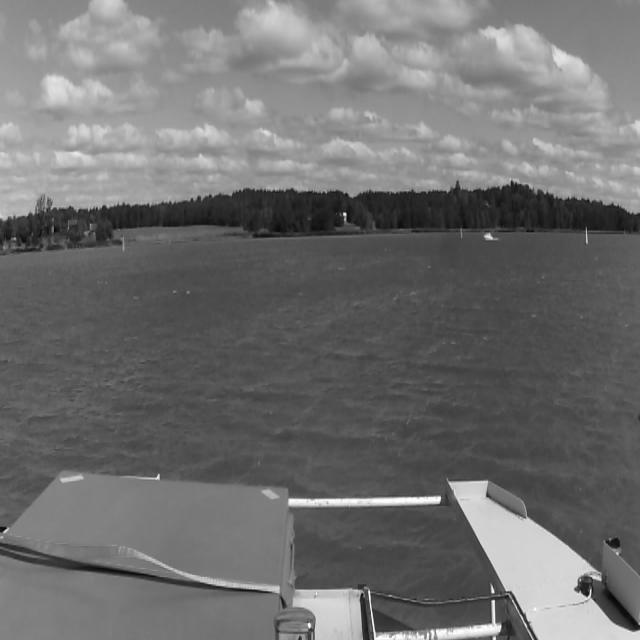buoy: (586, 227, 588, 244), (122, 242, 125, 252)
ship: (484, 232, 498, 242)
